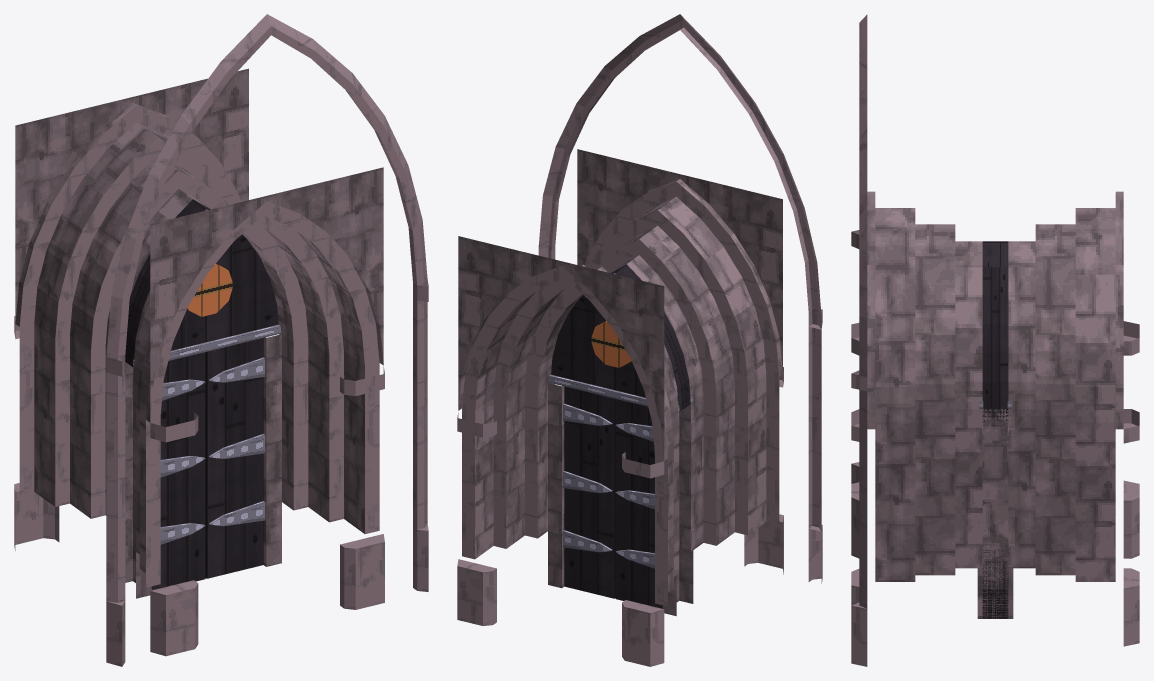
File: door_bosshoch_a.glb
3 views of the same model, side by side, from view 1: azimuth 30°, elevation 25°; view 2: azimuth 150°, elevation 25°; view 3: azimuth 270°, elevation 25° (orthographic). The views are drawn at different scales.
Visible parts, largest first — view 1: portal_front, portal_back, leaf_a, leaf_b, portal; view 2: portal_front, portal_back, leaf_a, portal, leaf_b; view 3: portal_front, portal_back, portal, leaf_a.
Part boxes in pixels (x1,y1,x2,y2): portal_front: (106,14,428,666); portal_back: (14,68,248,582); leaf_a: (205,338,265,578); leaf_b: (135,352,205,590); portal: (125,199,281,367); portal_front: (538,14,822,603); portal_back: (457,236,679,666); leaf_a: (563,386,615,598); portal: (548,264,692,412); leaf_b: (615,399,662,608); portal_front: (851,14,995,666); portal_back: (995,191,1139,646); portal: (979,241,1011,408); leaf_a: (982,409,1008,618).
Size of the model in its own units: 2.75 by 4.99 by 2.25.
Materials: 1 (1 with a texture image).
